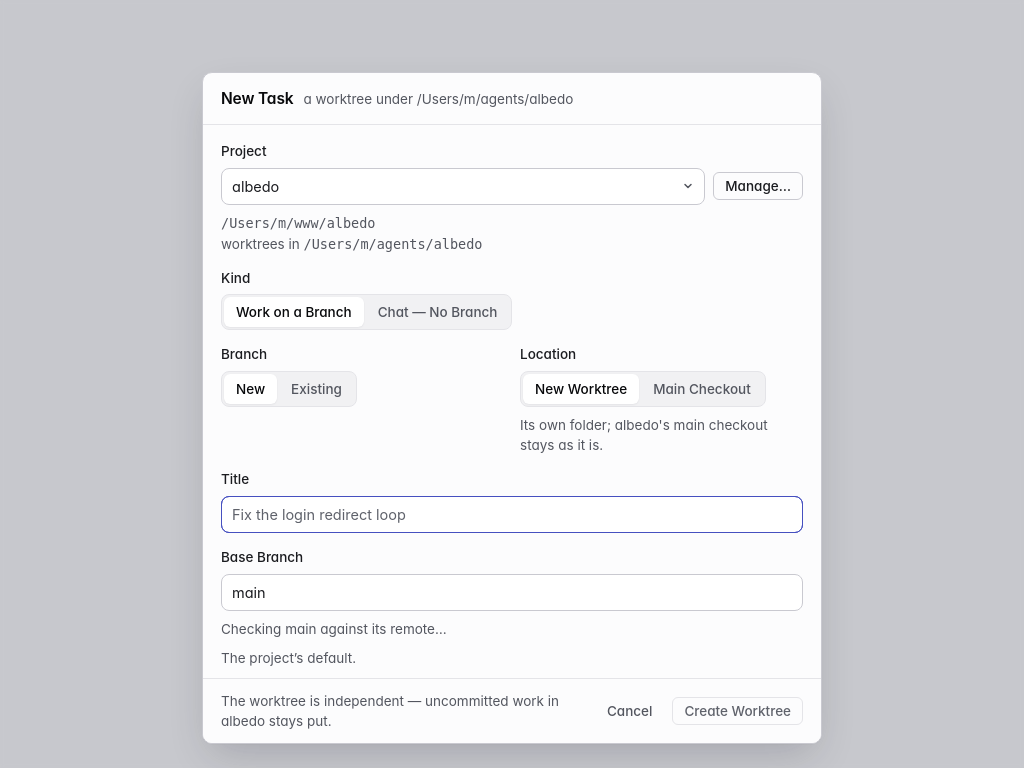
Scenario: NewTaskDialog chat › says the main checkout was not changed when the row cannot be saved
Click the radio button labelled "Chat — No Branch" at {"x": 438, "y": 312}, box [366, 297, 509, 327]
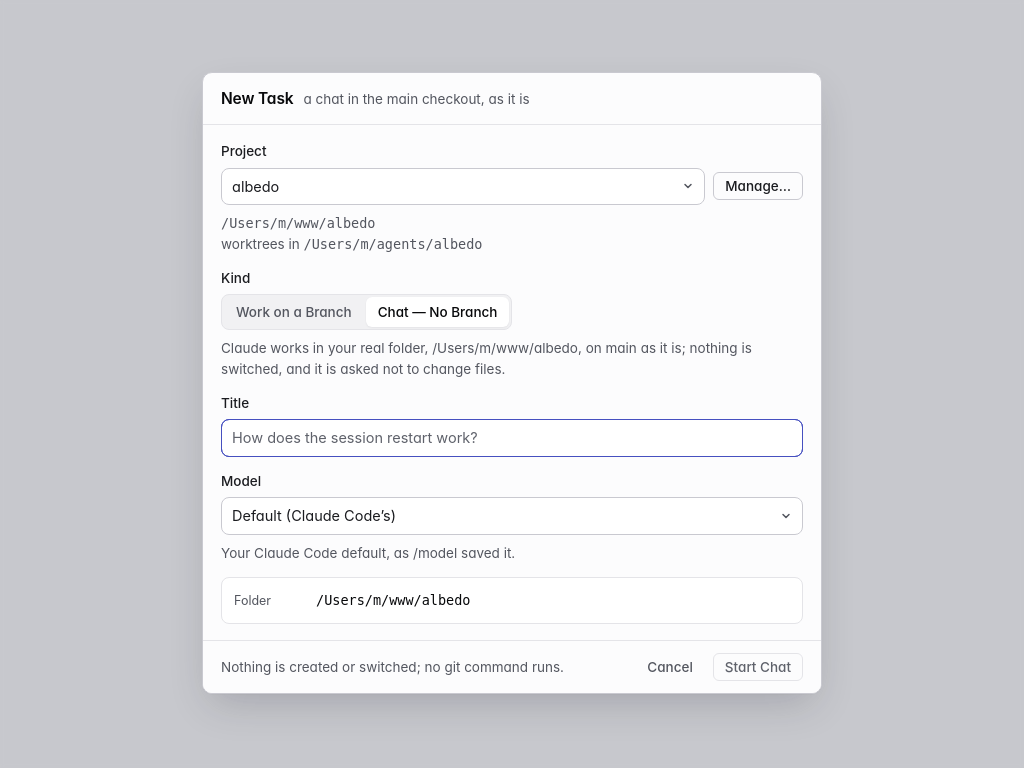
Type "Why?" into the field labelled "Title" at {"x": 512, "y": 438}, box [221, 419, 803, 457]
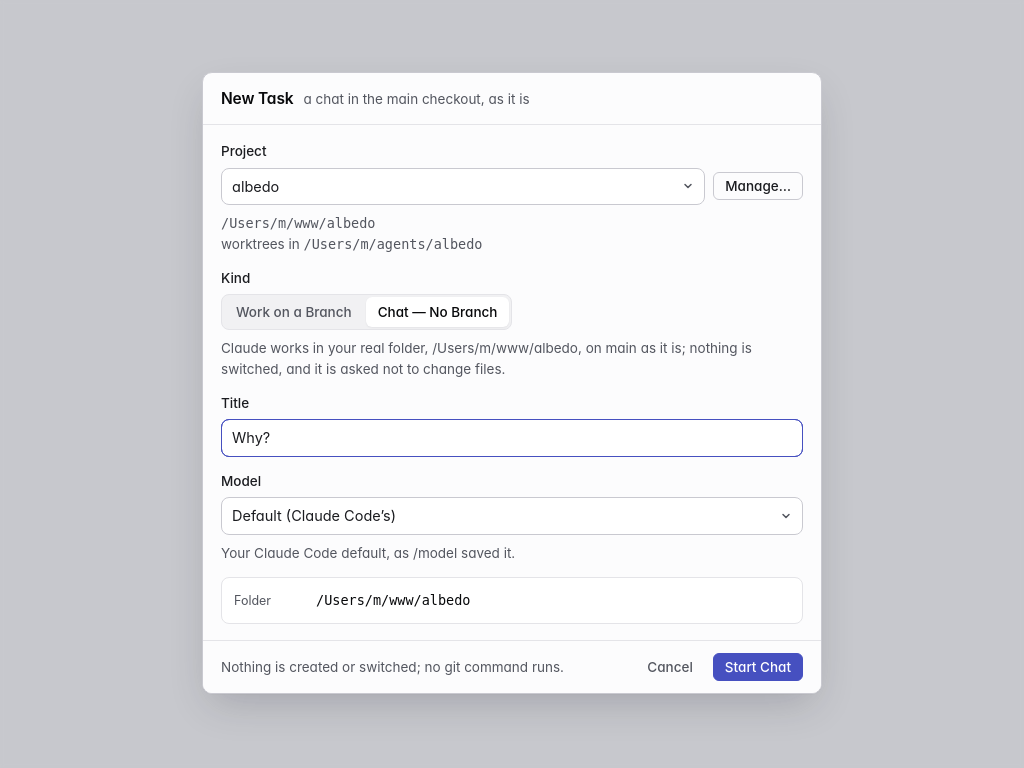
Click the button "Start Chat" at {"x": 758, "y": 667}, box [713, 653, 803, 681]
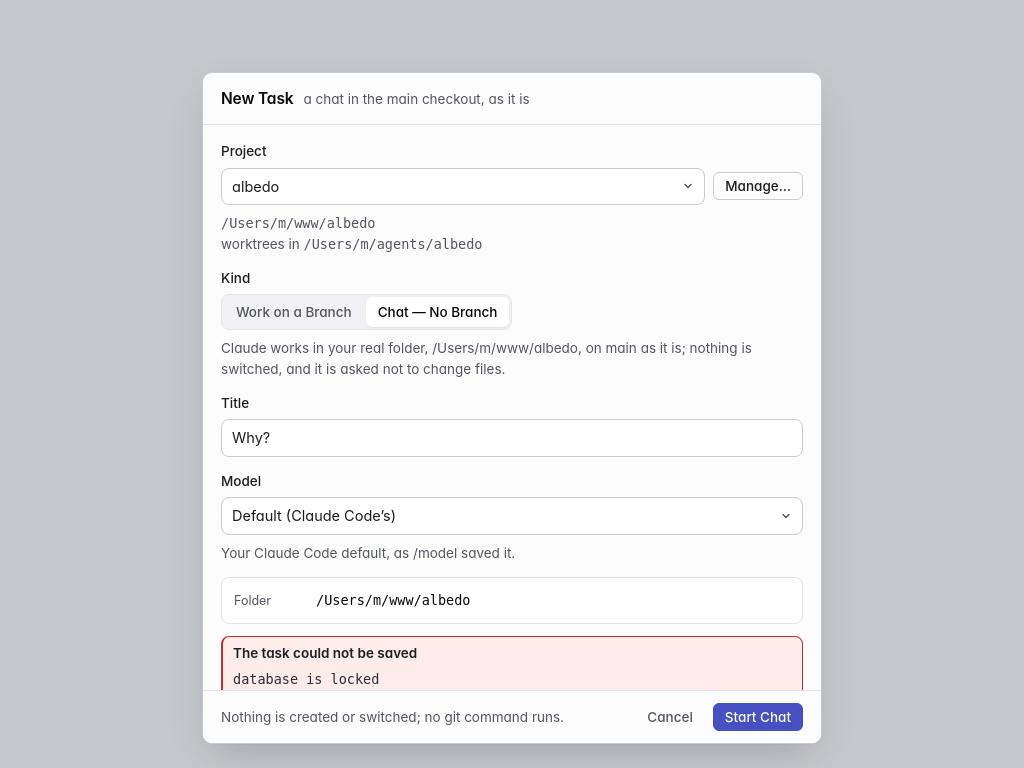
Expected: the text "The task could not be saved" is shown, [233, 645, 417, 661]
